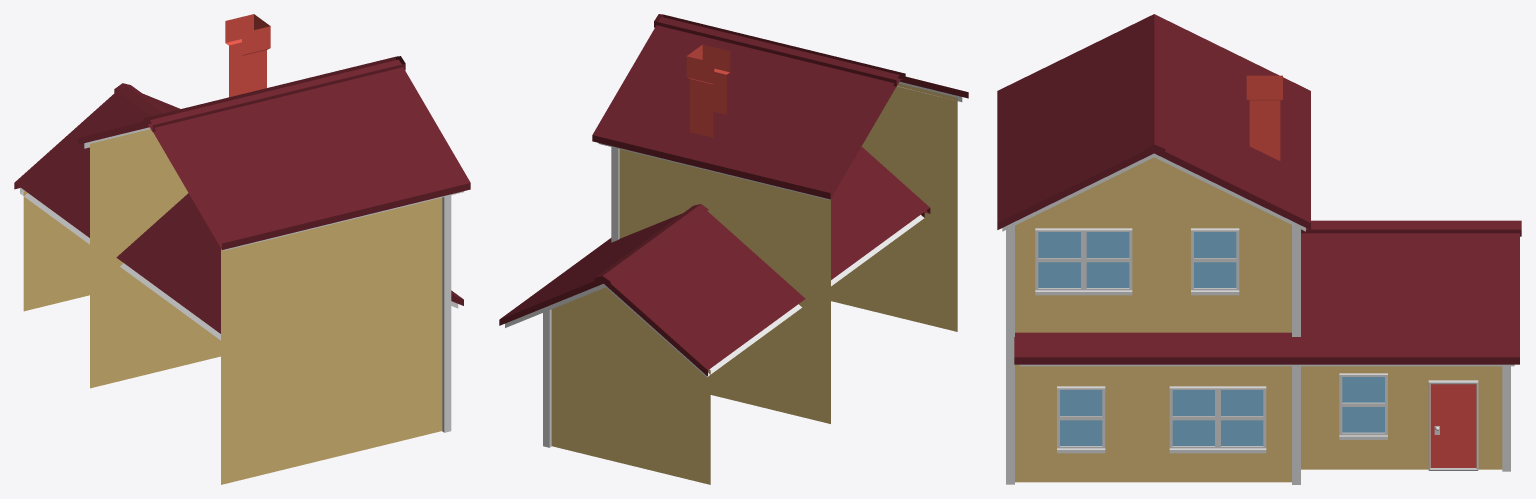
File: Level3HouseTest2.fbx
The picture shows the model from 3 angles, left to right: view 1: azimuth 30°, elevation 25°; view 2: azimuth 150°, elevation 25°; view 3: azimuth 270°, elevation 25°; orthographic projection. The views are drawn at different scales.
Parts seen in each view (by area): view 1: Plane.001; view 2: Plane.001; view 3: Plane.001.
Boxes of the visible parts, x1,y1,x2,y2 form: Plane.001: (14,14,470,484); Plane.001: (499,14,968,484); Plane.001: (997,14,1521,484).
Size of the model in its own units: 7122 by 9184 by 11730.
